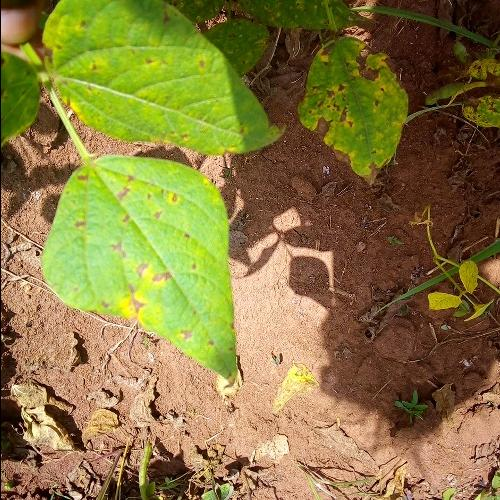mozaik: (34, 0, 274, 162), (49, 167, 236, 370), (305, 25, 426, 209)
